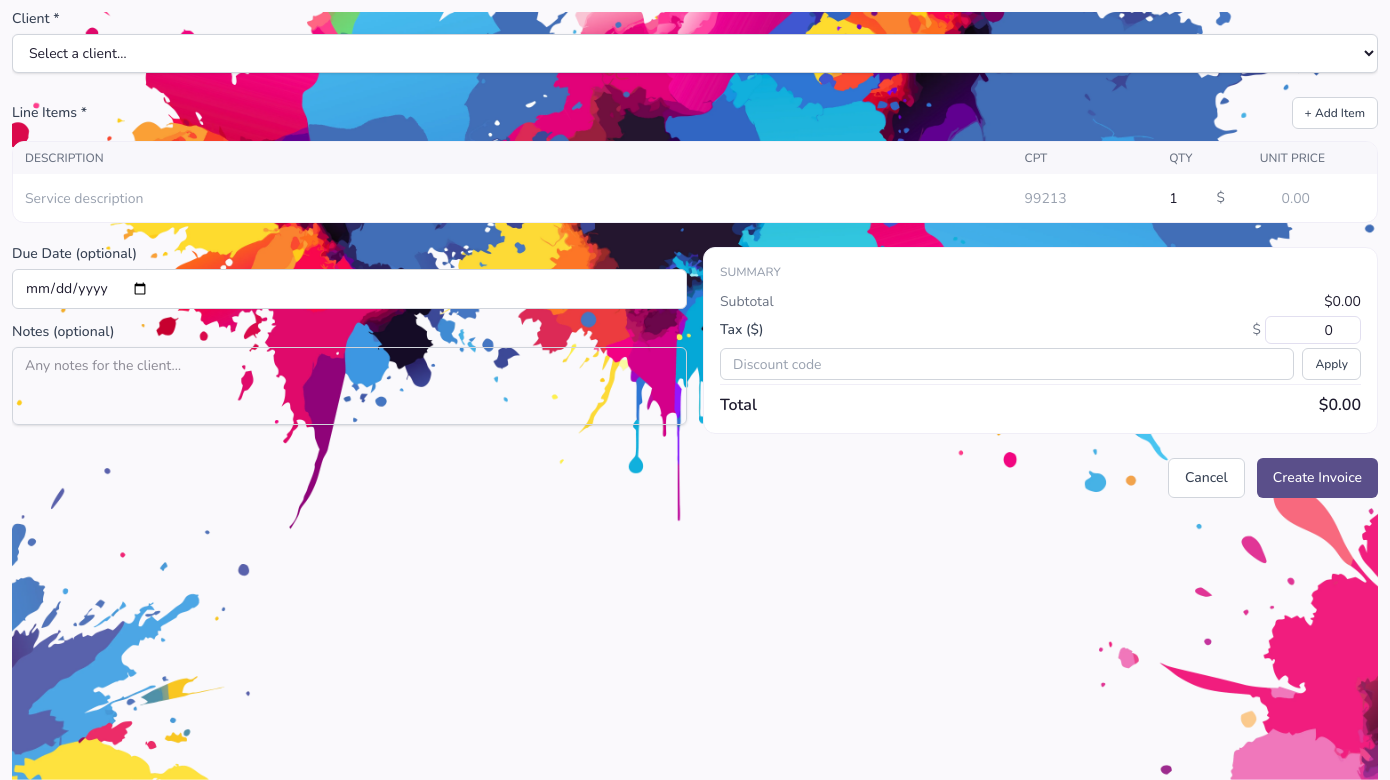
Test: NewInvoiceForm › validation › shows error when line item has no description
Select a client to pass that check
Select "Jane Smith" in the dropdown labelled "Client *": (695,54) [12, 34, 1378, 73]
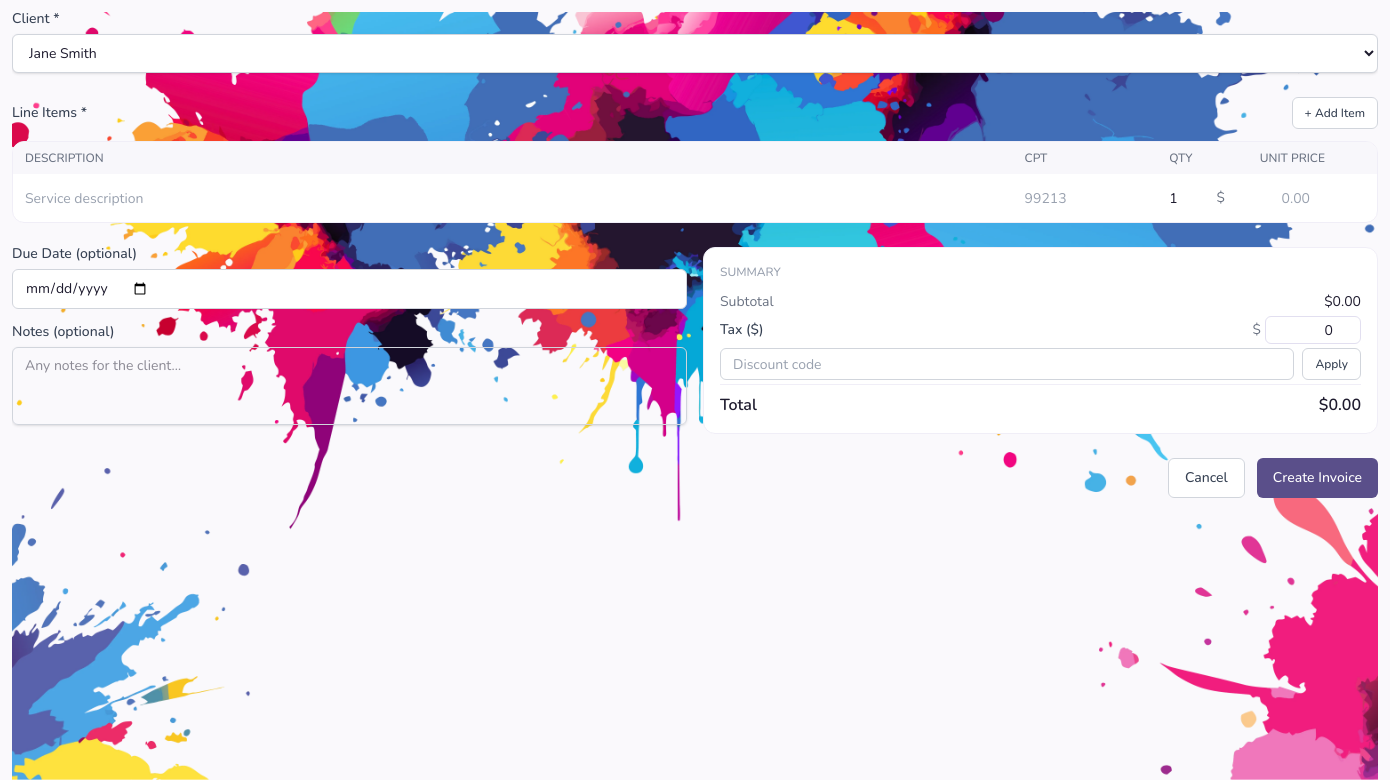
Submit the form
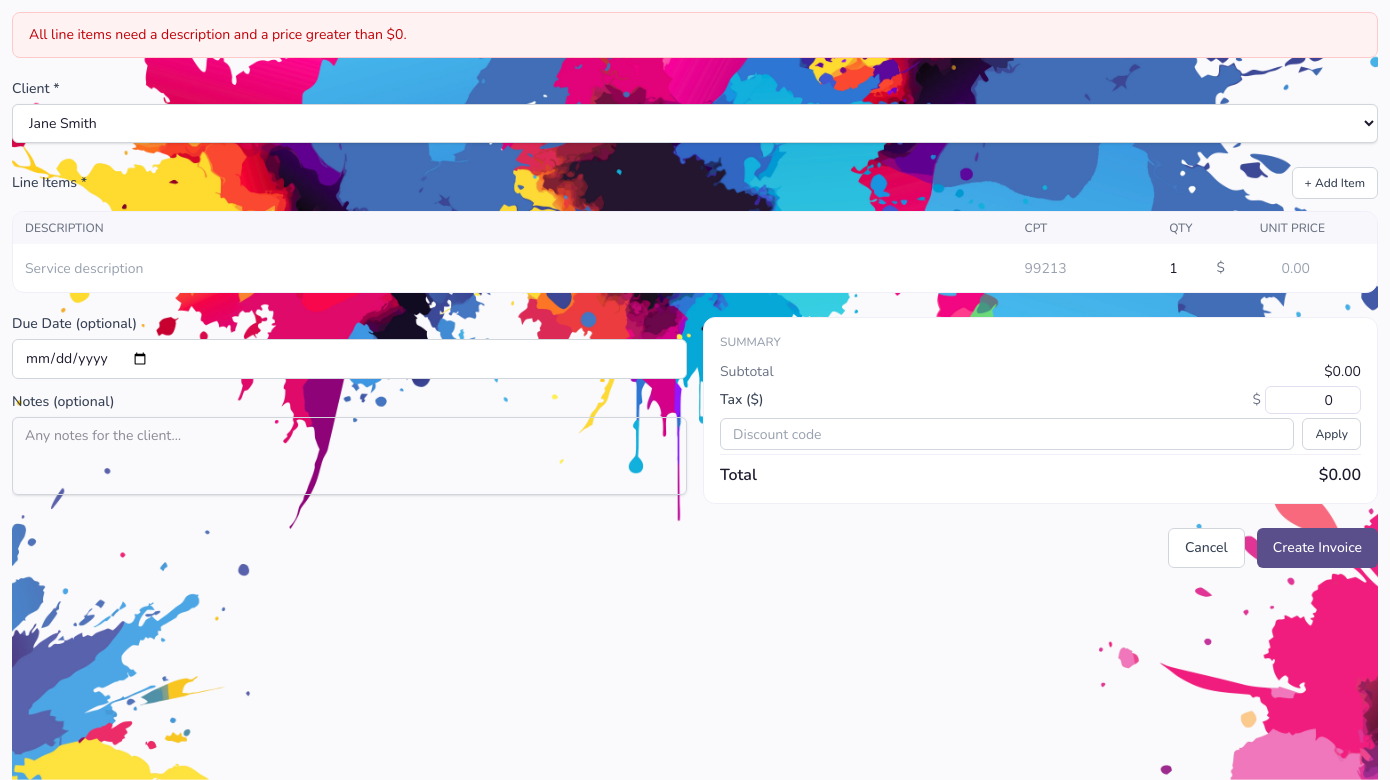
Expected: the text "description and a price" is shown, [29, 25, 407, 44]
